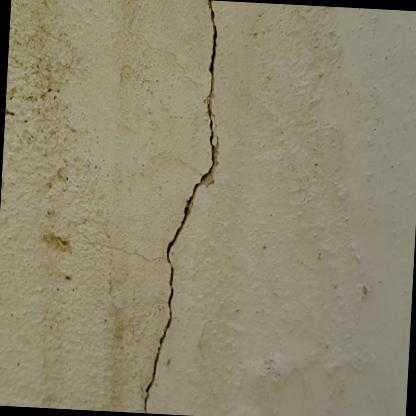crack: (144, 0, 217, 413)
